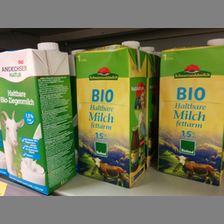milk: (1, 42, 78, 196), (76, 39, 150, 190), (158, 38, 224, 187)
